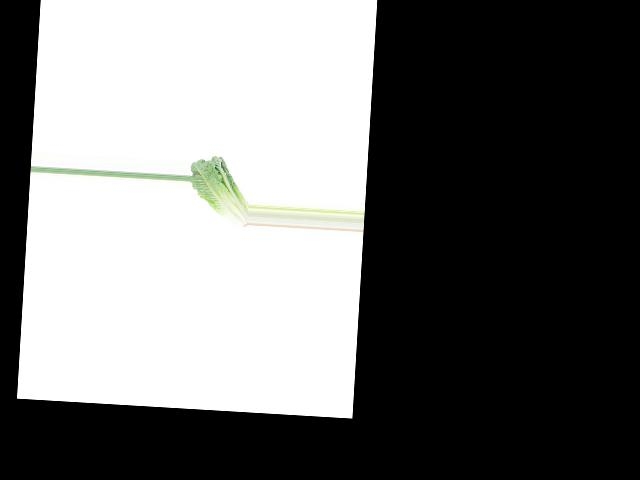lettuce: (187, 153, 251, 228)
